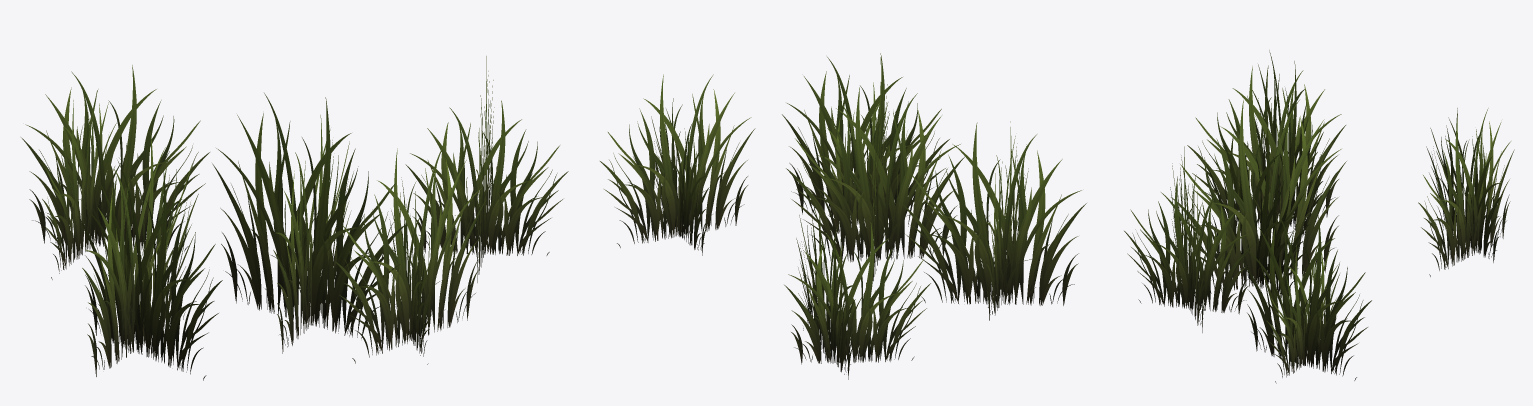
The model's file is Grass_010.fbx.
3 views of the same model, side by side, from view 1: azimuth 30°, elevation 25°; view 2: azimuth 150°, elevation 25°; view 3: azimuth 270°, elevation 25° (orthographic). The views are drawn at different scales.
Visible parts, largest first — view 1: Grass_010; view 2: Grass_010; view 3: Grass_010.
Part boxes in pixels (x1,y1,x2,y2): Grass_010: (21, 56, 568, 380); Grass_010: (600, 53, 1086, 379); Grass_010: (1124, 50, 1514, 383).
Size of the model in its own units: 2.15 by 1.8 by 0.9753.
